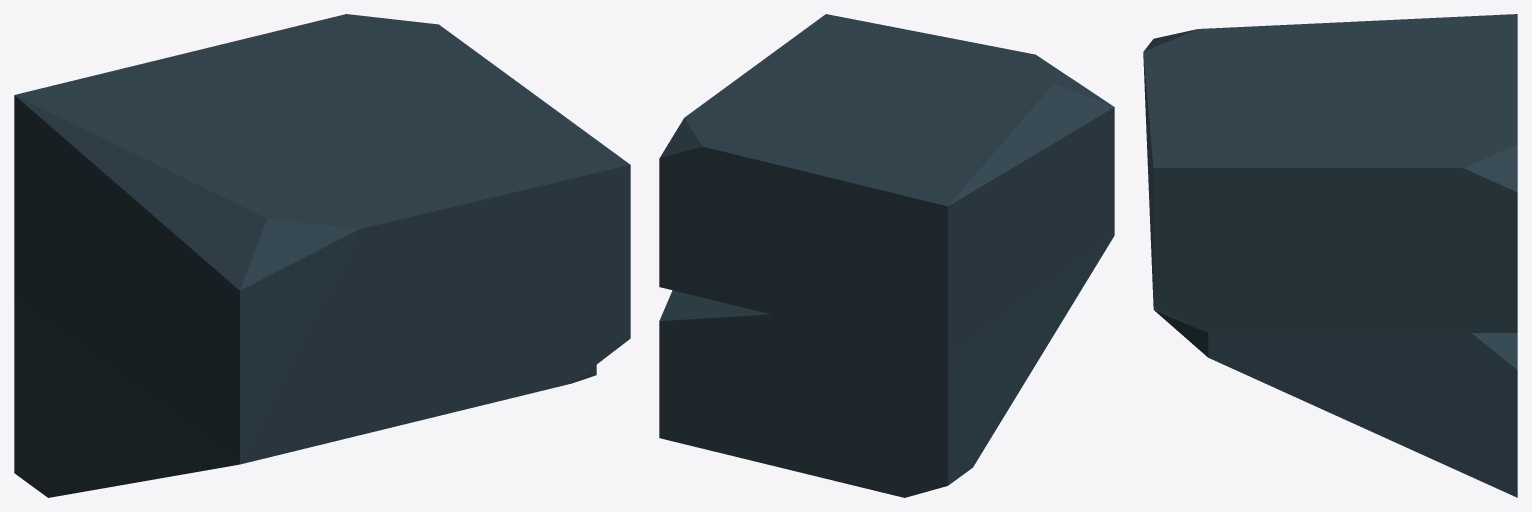
The model's file is ceiling_element_shallow_slope_1x1.fbx.
The picture shows the model from 3 angles, left to right: view 1: azimuth 30°, elevation 25°; view 2: azimuth 150°, elevation 25°; view 3: azimuth 270°, elevation 25°; orthographic projection. The views are drawn at different scales.
Parts seen in each view (by area): view 1: ceiling_element_shallow_slope_1x1; view 2: ceiling_element_shallow_slope_1x1; view 3: ceiling_element_shallow_slope_1x1.
Boxes of the visible parts, bbox=[...] form: ceiling_element_shallow_slope_1x1: bbox=[14, 14, 630, 497]; ceiling_element_shallow_slope_1x1: bbox=[659, 14, 1114, 497]; ceiling_element_shallow_slope_1x1: bbox=[1143, 14, 1517, 497].
Bounding box in the file's own units: 100 × 102 × 103.
